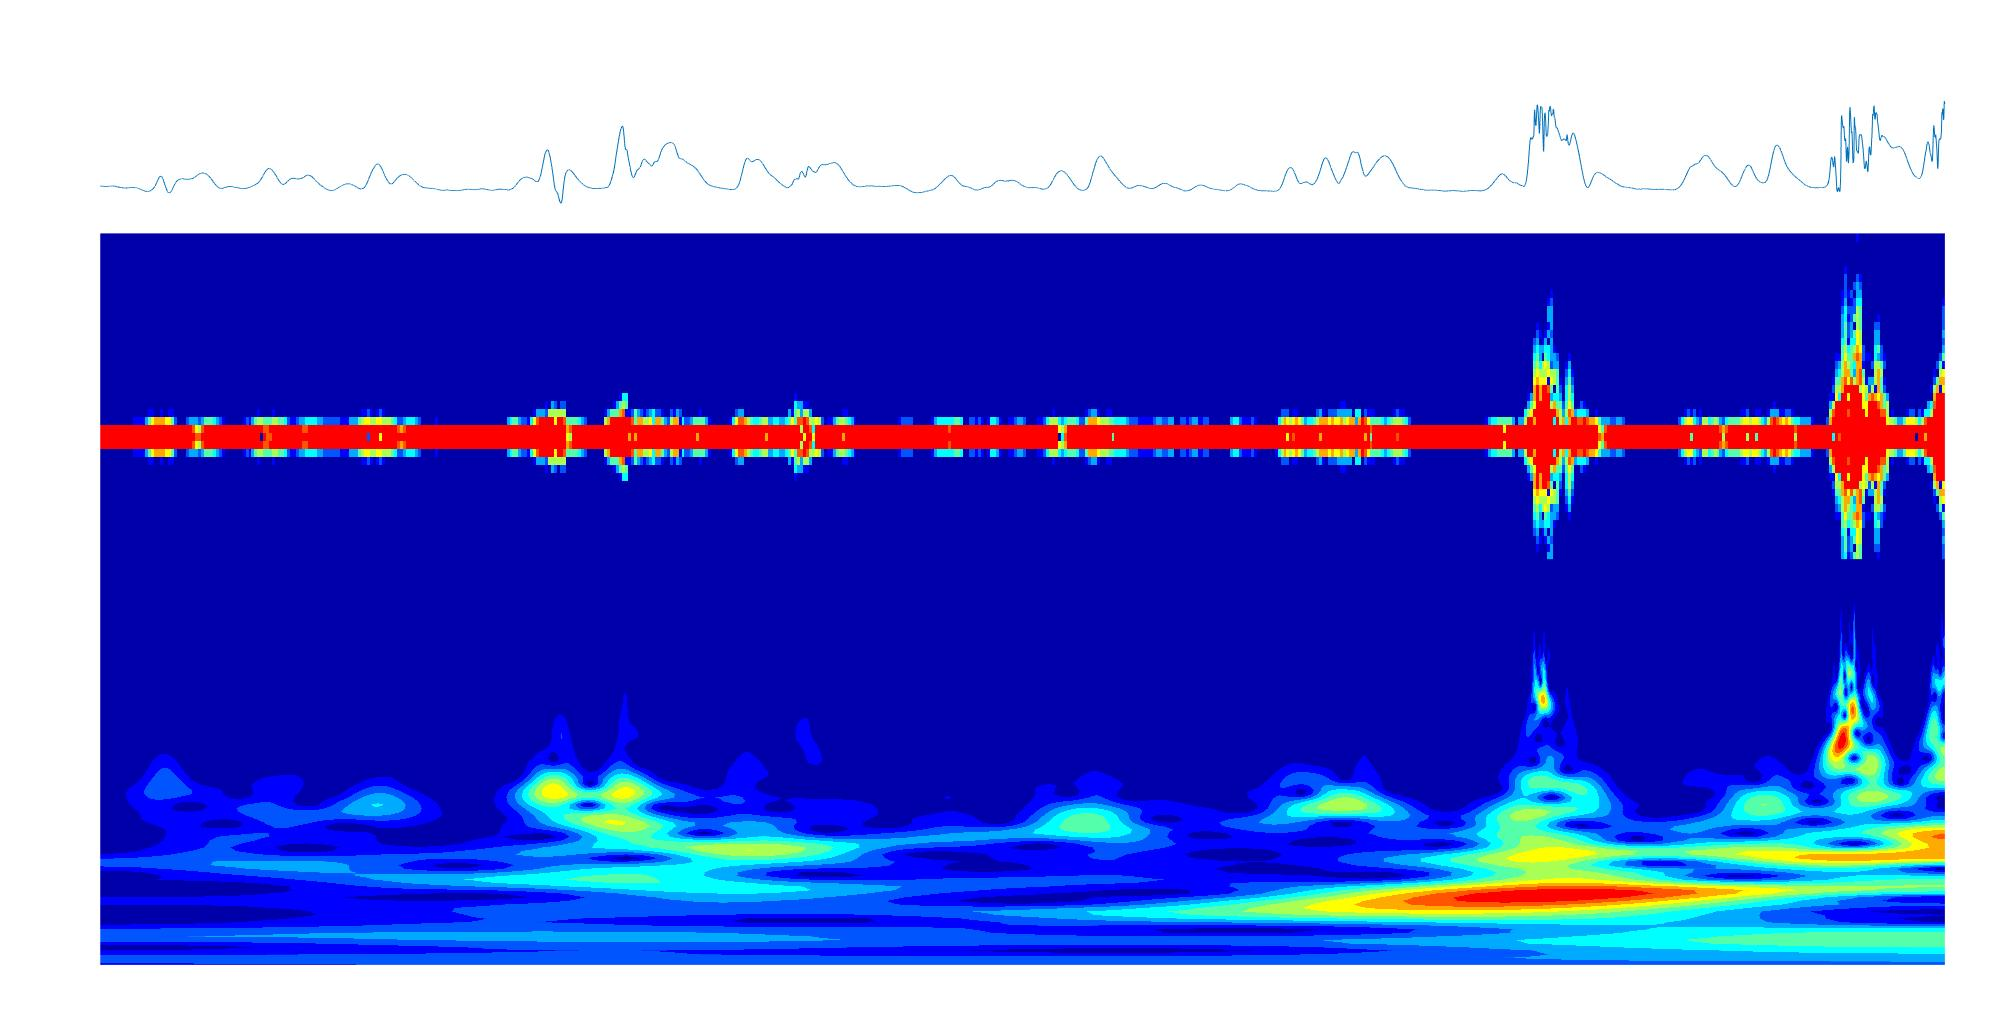TURBULENT: (1829, 232, 1888, 963), (1524, 235, 1561, 964)
